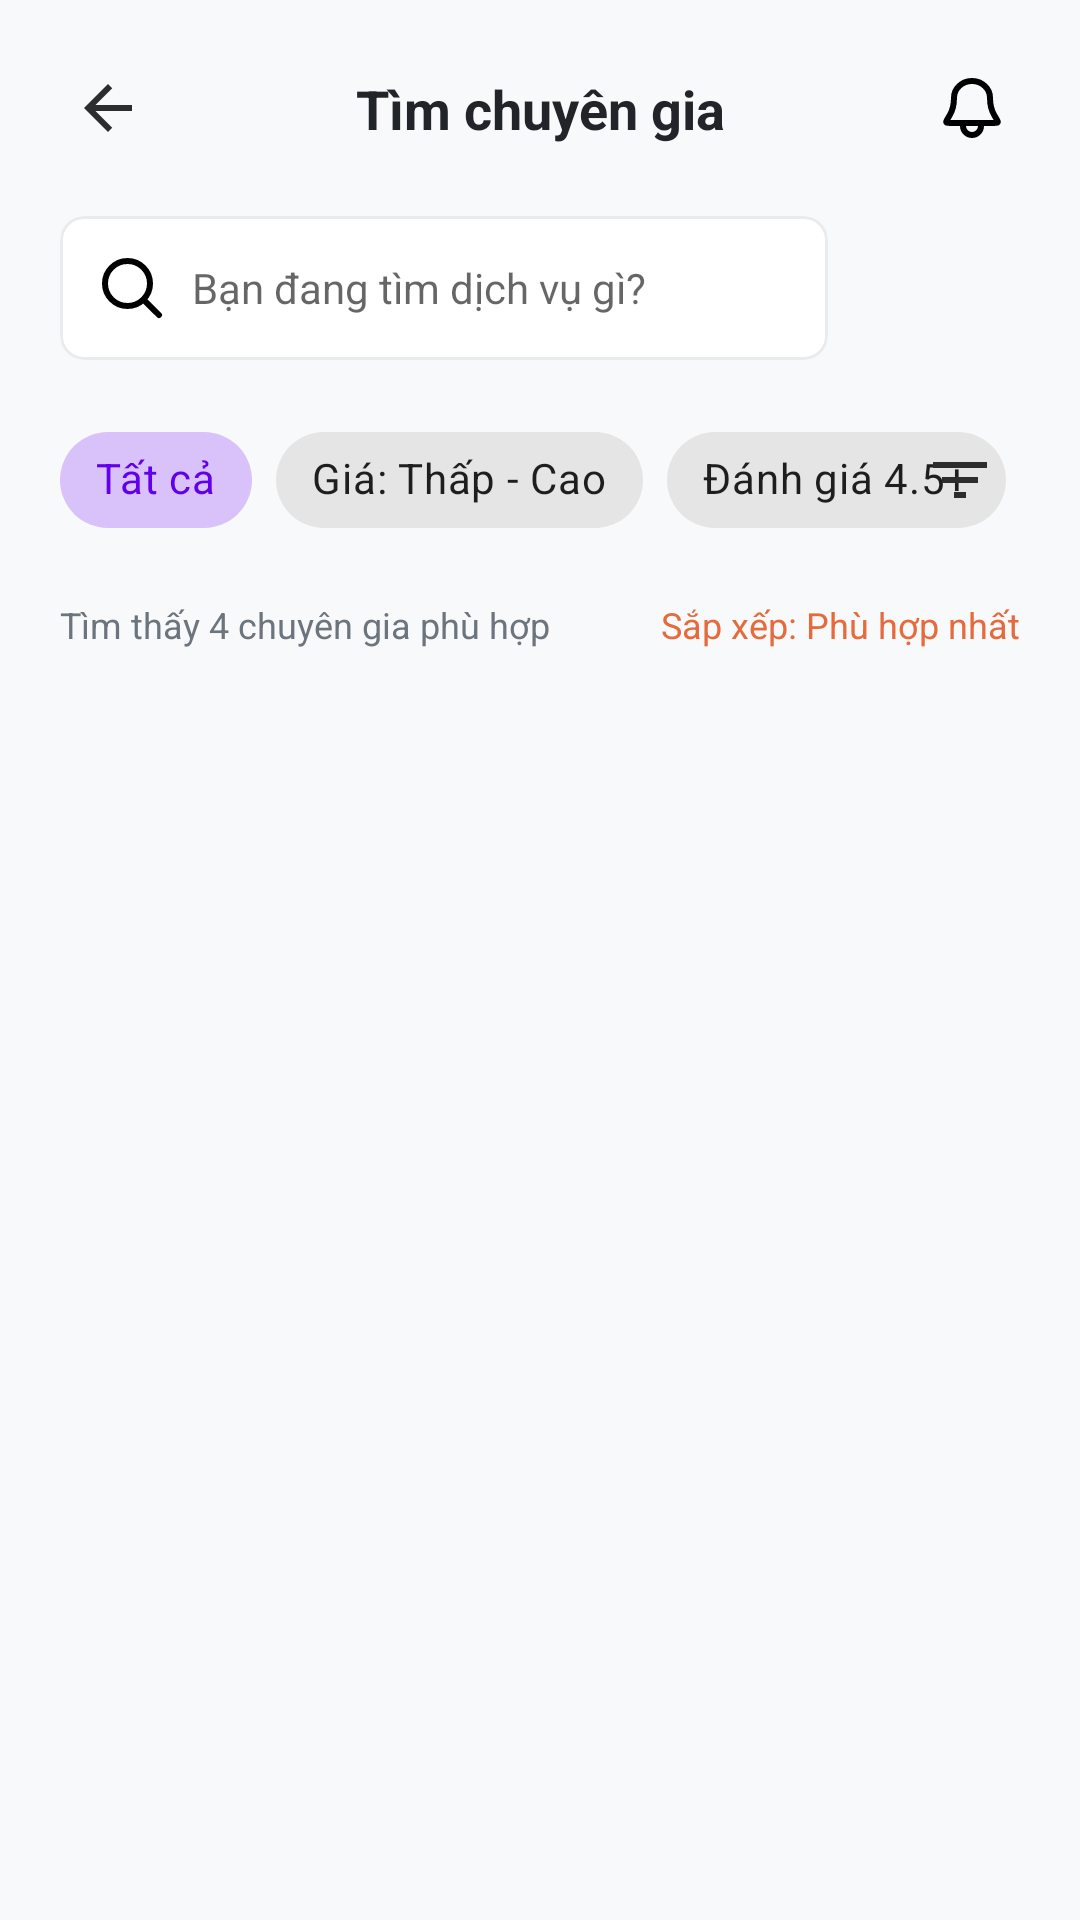

Icons on this 1080×1920 Android screen, each with its box as (x1, y1, x2, y2):
back: (84, 84, 132, 132)
bell: (943, 78, 1001, 138)
